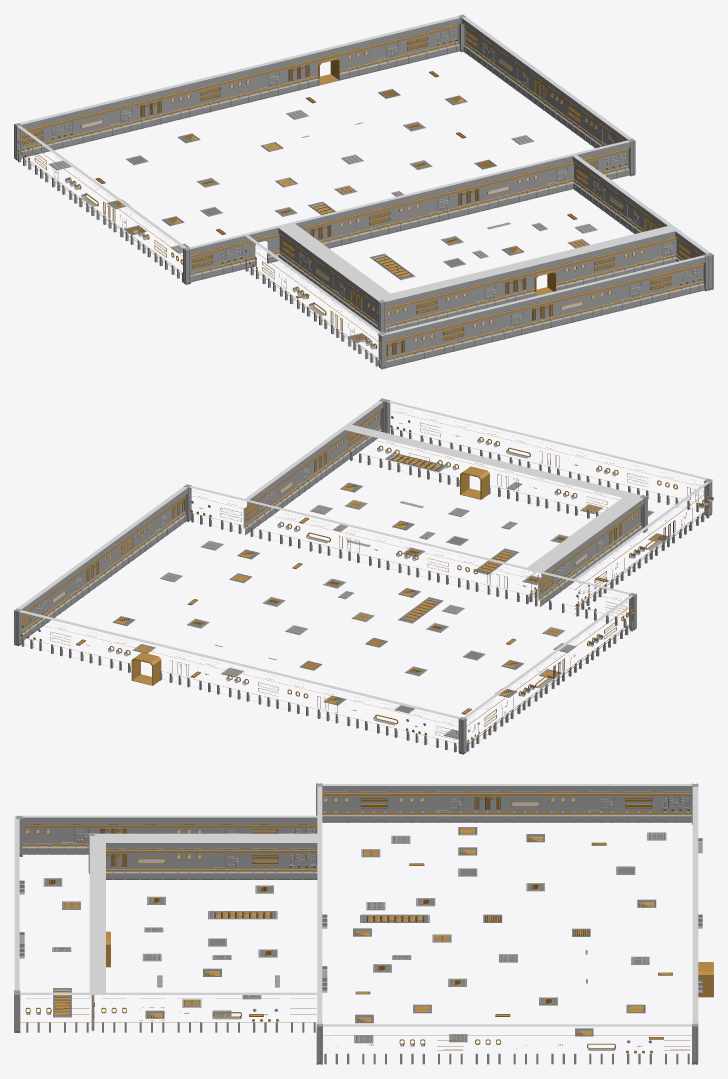
3 renders of one model, top to bottom at view 1: azimuth 30°, elevation 25°; view 2: azimuth 150°, elevation 25°; view 3: azimuth 270°, elevation 25°, orthographic. The views are drawn at different scales.
Visible parts, largest first — view 1: Plane.008, Plane.005, Plane, Plane.003, Wall_1.001, Wall_5.003, SmallWindows_Wall_SideA.010, Wall_1, Wall_2.014, Wall_1.013, SmallWindows_Wall_SideA.016, LongWindow_Wall_SideA.006 (+56 smaller); view 2: Plane.008, Plane.005, Plane, Plane.003, Plane.006, Plane.001, DoorDoubleLong_Wall_SideA, DoorDoubleLong_Wall_SideA.001, Plane.002, Plane.007, SmallWindows_Wall_SideA.002, Wall_1.004 (+12 smaller); view 3: Plane.008, Plane.005, Plane, LongWindow_Wall_SideA.001, LongWindow_Wall_SideA.005, Wall_1.009, Wall_2.006, Plane.003, SmallWindows_Wall_SideA.007, SmallWindows_Wall_SideA.008, SmallWindows_Wall_SideA.011, Wall_1.010 (+25 smaller).
Boxes of the visible parts, bbox=[...] form: Plane.008: bbox=[391, 226, 674, 298]; Plane.005: bbox=[278, 223, 397, 301]; Plane: bbox=[20, 16, 460, 124]; Plane.003: bbox=[189, 140, 629, 248]; Wall_1.001: bbox=[254, 60, 286, 100]; Wall_5.003: bbox=[402, 24, 434, 64]; SmallWindows_Wall_SideA.010: bbox=[394, 192, 426, 232]; Wall_1: bbox=[106, 96, 138, 136]; Wall_2.014: bbox=[527, 293, 559, 333]; Wall_1.013: bbox=[542, 156, 573, 195]; SmallWindows_Wall_SideA.016: bbox=[587, 278, 618, 318]; LongWindow_Wall_SideA.006: bbox=[557, 285, 588, 325]; Plane.008: bbox=[345, 424, 629, 497]; Plane.005: bbox=[527, 492, 643, 571]; Plane: bbox=[19, 610, 460, 718]; Plane.003: bbox=[189, 486, 630, 594]; Plane.006: bbox=[388, 401, 709, 479]; Plane.001: bbox=[17, 486, 187, 609]; DoorDoubleLong_Wall_SideA: bbox=[131, 644, 164, 685]; DoorDoubleLong_Wall_SideA.001: bbox=[460, 462, 491, 499]; Plane.002: bbox=[463, 595, 633, 717]; Plane.007: bbox=[245, 400, 382, 499]; SmallWindows_Wall_SideA.002: bbox=[135, 511, 156, 556]; Wall_1.004: bbox=[152, 499, 173, 544]; Plane.008: bbox=[89, 843, 105, 992]; Plane.005: bbox=[89, 833, 317, 842]; Plane: bbox=[692, 786, 698, 1023]; LongWindow_Wall_SideA.001: bbox=[132, 843, 170, 879]; LongWindow_Wall_SideA.005: bbox=[506, 786, 544, 822]; Wall_1.009: bbox=[430, 786, 468, 822]; Wall_2.006: bbox=[468, 786, 506, 822]; Plane.003: bbox=[317, 786, 322, 1023]; SmallWindows_Wall_SideA.007: bbox=[544, 786, 581, 822]; SmallWindows_Wall_SideA.008: bbox=[393, 786, 430, 822]; SmallWindows_Wall_SideA.011: bbox=[170, 843, 207, 879]; Wall_1.010: bbox=[582, 786, 619, 822].
Bounding box in the file's own units: 61.8 × 4.51 × 74.02.
